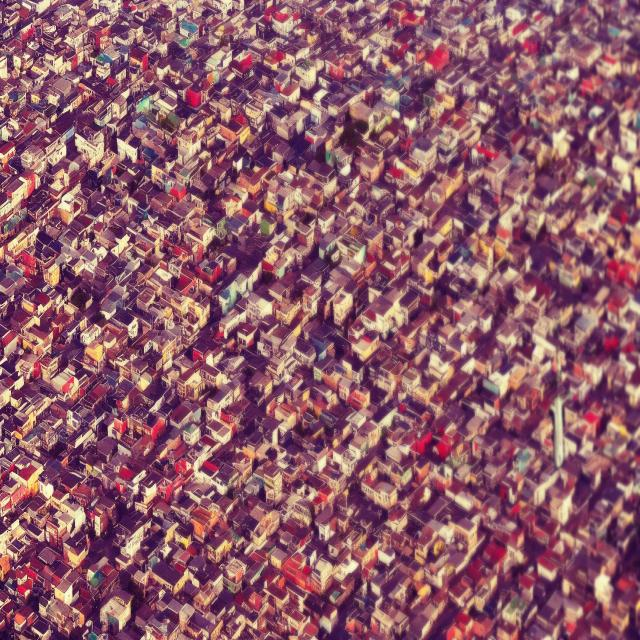airplane: (550, 395, 572, 470)
